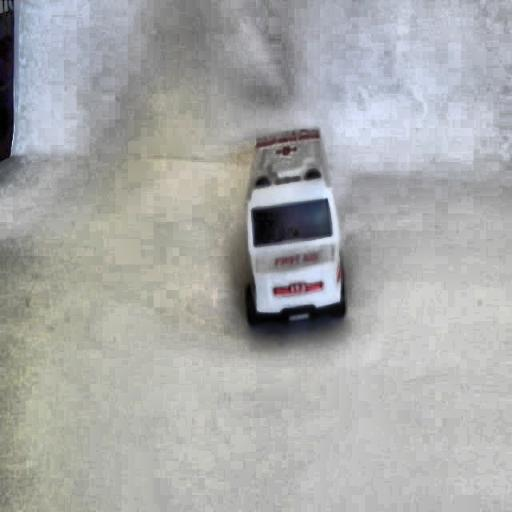ambulance: (244, 127, 346, 326)
